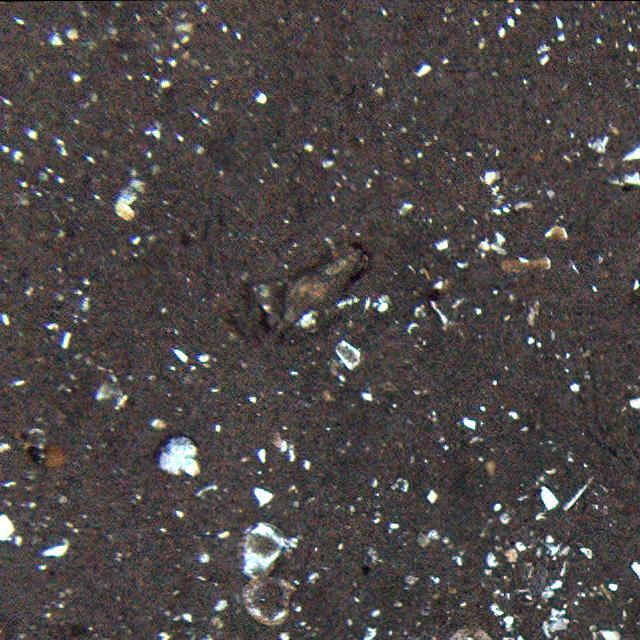whelk: (265, 250, 359, 328)
